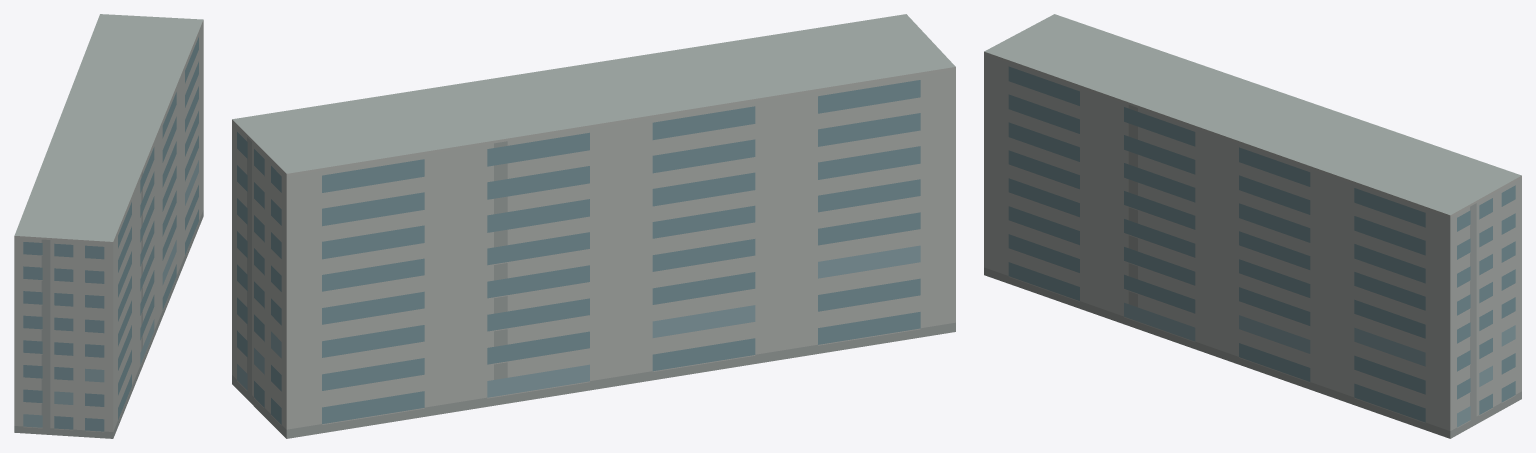
Rendered from residential-56ed7ffc-0739-457f-865d-1dc9f46ea1a9.glb.
3 views of the same model, side by side, from view 1: azimuth 30°, elevation 25°; view 2: azimuth 150°, elevation 25°; view 3: azimuth 270°, elevation 25° (orthographic). The views are drawn at different scales.
Parts seen in each view (by area): view 1: residential-56ed7ffc-0739-457f-865d-1dc9f46ea1a9.tmp; view 2: residential-56ed7ffc-0739-457f-865d-1dc9f46ea1a9.tmp; view 3: residential-56ed7ffc-0739-457f-865d-1dc9f46ea1a9.tmp.
Boxes of the visible parts, left/top/right/bottom form: residential-56ed7ffc-0739-457f-865d-1dc9f46ea1a9.tmp: left=14, top=14, right=203, bottom=438; residential-56ed7ffc-0739-457f-865d-1dc9f46ea1a9.tmp: left=232, top=14, right=955, bottom=438; residential-56ed7ffc-0739-457f-865d-1dc9f46ea1a9.tmp: left=984, top=14, right=1521, bottom=438.
Bounding box in the file's own units: 46.36 × 24 × 52.33.
